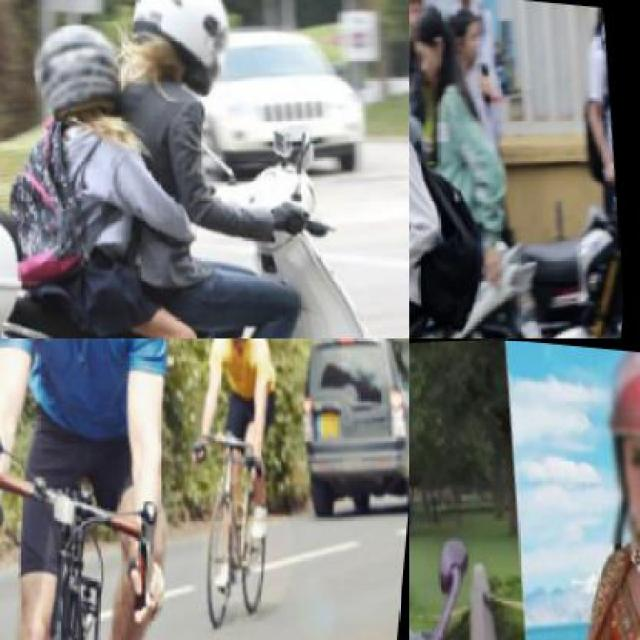With Helmet: (121, 0, 248, 100), (580, 339, 638, 546), (28, 11, 129, 114), (219, 338, 266, 356)
